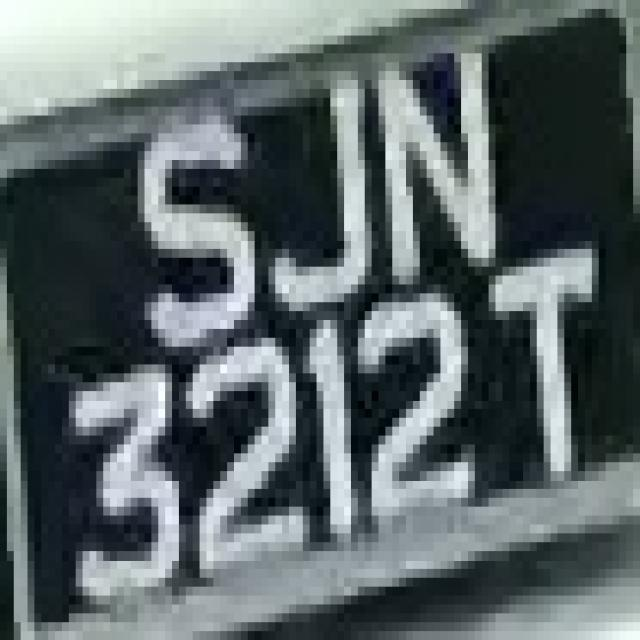1: (296, 284, 358, 534)
2: (351, 276, 495, 542), (165, 320, 310, 560)
3: (48, 356, 172, 596)
J: (248, 53, 378, 329)
N: (337, 27, 509, 284)
S: (117, 89, 248, 347)
T: (454, 240, 626, 524)
